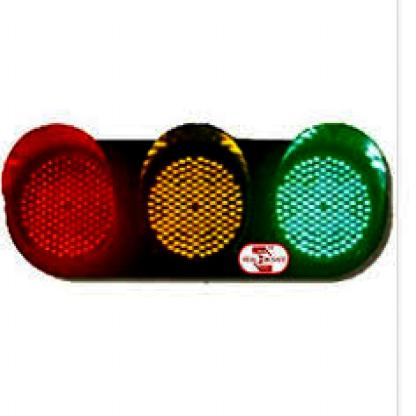traffic-light: (4, 125, 393, 291)
